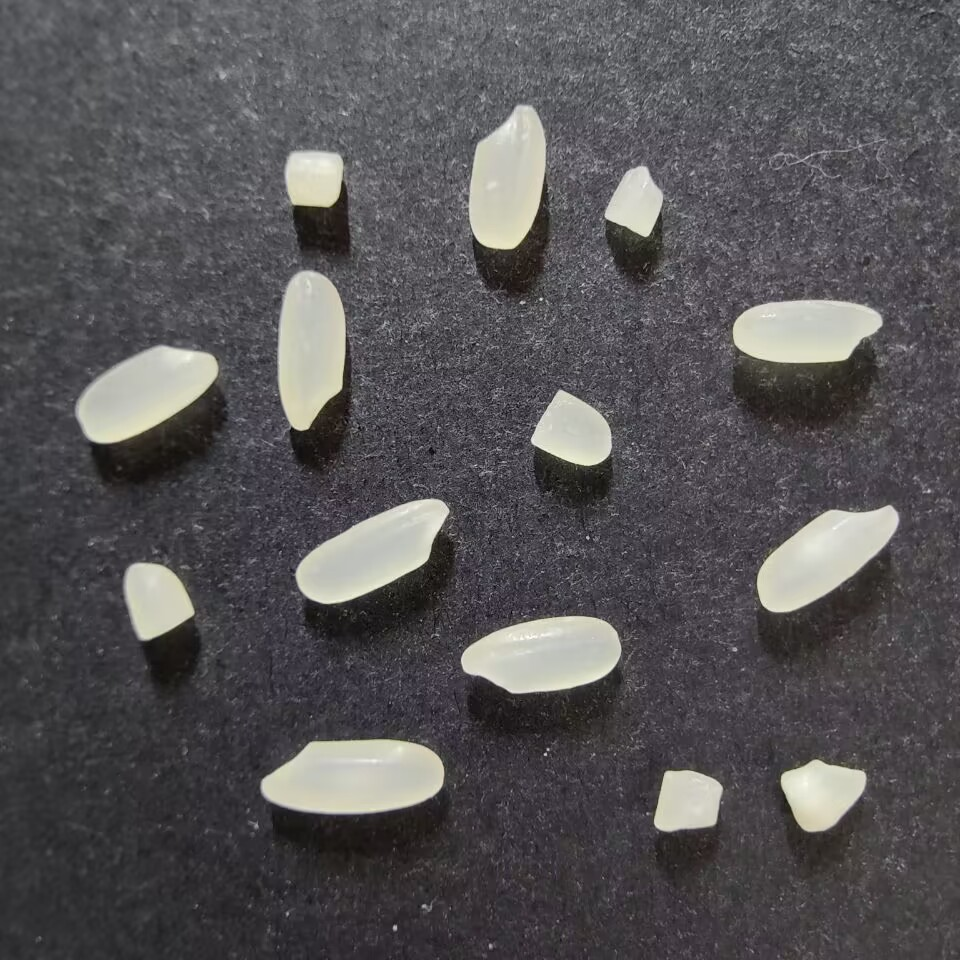broken: (778, 758, 867, 833), (530, 389, 612, 466), (123, 561, 195, 641), (603, 164, 663, 238), (653, 769, 722, 833), (284, 149, 343, 208)
rice: (295, 497, 449, 604), (756, 504, 899, 613), (75, 344, 218, 445), (260, 738, 445, 815), (460, 615, 621, 694), (467, 103, 545, 250), (277, 270, 346, 431), (732, 299, 883, 364)
